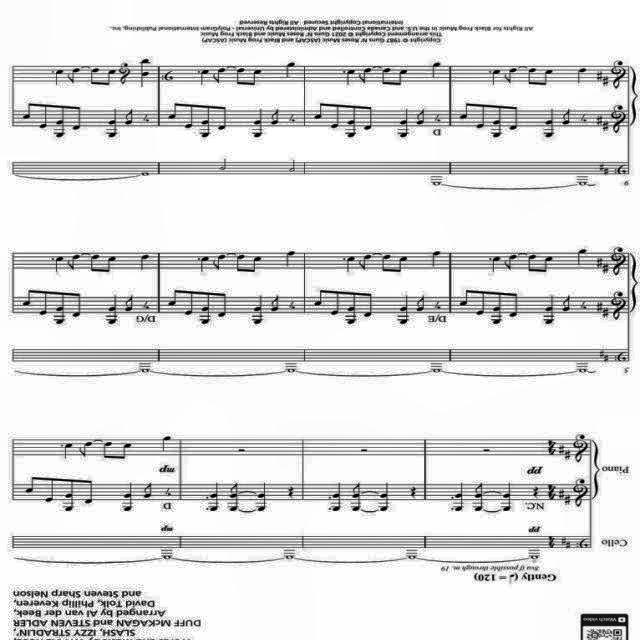Bass-clef: (160, 69, 176, 83), (612, 350, 628, 362), (613, 164, 629, 176), (575, 538, 589, 550)
Diez: (564, 494, 572, 506), (558, 444, 566, 456), (596, 302, 604, 314), (596, 114, 604, 126), (602, 76, 610, 88), (596, 70, 604, 82), (564, 450, 572, 460), (602, 308, 610, 318), (602, 264, 610, 274), (598, 162, 606, 172), (602, 121, 610, 131), (602, 353, 610, 362), (596, 256, 602, 268), (558, 488, 564, 499), (564, 542, 572, 550), (603, 167, 609, 176), (561, 538, 567, 546), (599, 350, 605, 358)
Eighth-note: (57, 476, 75, 512), (339, 290, 357, 326), (195, 104, 212, 140), (486, 289, 502, 327), (50, 290, 66, 326), (196, 290, 212, 326), (488, 103, 504, 139), (50, 104, 66, 140), (326, 102, 342, 130), (344, 104, 356, 140), (470, 290, 486, 316), (358, 292, 374, 318), (324, 289, 340, 315), (22, 289, 44, 307), (473, 480, 485, 512), (78, 480, 94, 504), (504, 292, 518, 318), (66, 291, 80, 317), (215, 105, 229, 131), (36, 102, 49, 130), (166, 102, 186, 120), (21, 102, 39, 122), (244, 68, 264, 86), (228, 482, 240, 511), (41, 477, 54, 503), (36, 289, 49, 315), (182, 102, 194, 130), (459, 289, 477, 307), (167, 289, 185, 307), (99, 255, 117, 273), (535, 68, 553, 86), (313, 102, 331, 120), (391, 69, 409, 87), (214, 292, 226, 318), (182, 290, 194, 316), (506, 105, 518, 131), (361, 105, 373, 131), (70, 105, 82, 131), (391, 255, 409, 272), (352, 482, 362, 512), (22, 476, 38, 494), (114, 443, 132, 459), (246, 255, 262, 273), (502, 253, 518, 271), (356, 254, 372, 272), (212, 66, 228, 84), (358, 66, 374, 84), (475, 102, 485, 130), (89, 66, 103, 86), (537, 255, 553, 272), (314, 290, 330, 306), (66, 254, 82, 270), (458, 103, 474, 119), (66, 68, 82, 84), (100, 70, 116, 86), (528, 254, 540, 274), (90, 254, 102, 274), (124, 294, 136, 314), (380, 66, 392, 86), (234, 66, 246, 85), (268, 106, 280, 125), (78, 441, 92, 457), (504, 68, 518, 84), (212, 253, 225, 270), (382, 254, 393, 274), (142, 482, 154, 500), (415, 295, 427, 313), (528, 68, 540, 86), (414, 108, 426, 126), (236, 254, 247, 272), (103, 441, 113, 459), (271, 295, 281, 313), (561, 108, 571, 126), (562, 295, 572, 313), (125, 109, 135, 127)
Eighth-rest: (578, 298, 590, 310), (579, 112, 589, 124), (433, 112, 442, 124), (287, 300, 297, 310), (142, 113, 152, 123), (164, 487, 172, 497), (434, 301, 442, 311), (142, 301, 150, 311), (288, 114, 296, 122)
Full-note: (432, 368, 444, 374), (286, 368, 298, 374), (578, 368, 588, 374), (140, 368, 150, 374), (528, 556, 540, 560), (284, 556, 296, 560), (576, 182, 588, 186), (407, 556, 418, 560), (431, 182, 442, 186), (162, 556, 172, 560), (142, 172, 150, 176)
Full-rest: (480, 448, 492, 452), (358, 448, 370, 452), (237, 448, 247, 452)
Half-note: (216, 157, 228, 171), (287, 159, 297, 173)
Quarter-note: (542, 294, 556, 326), (252, 294, 264, 324), (544, 108, 556, 138), (252, 108, 264, 138), (139, 58, 151, 88), (502, 481, 512, 512), (454, 482, 464, 512), (379, 482, 389, 512), (331, 482, 341, 512), (257, 481, 267, 511), (209, 481, 219, 511), (123, 481, 133, 511), (399, 109, 409, 139), (107, 108, 117, 138), (399, 294, 408, 326), (108, 295, 116, 325), (284, 252, 296, 268), (54, 70, 66, 86), (577, 248, 587, 266), (345, 68, 355, 86), (200, 255, 210, 272), (432, 250, 441, 268), (161, 436, 171, 452), (346, 256, 356, 272), (54, 256, 64, 272), (140, 254, 150, 270), (577, 68, 587, 84), (491, 70, 501, 86), (285, 62, 295, 78), (492, 256, 501, 272), (432, 62, 441, 78), (200, 68, 208, 86), (64, 444, 72, 461), (508, 574, 516, 586)
Quarter-rest: (285, 483, 295, 499), (410, 486, 418, 499), (532, 486, 540, 498)
Treble-clef: (572, 433, 588, 463), (610, 60, 626, 88), (611, 102, 625, 134), (611, 246, 627, 274), (611, 290, 625, 322), (573, 478, 587, 509), (118, 62, 130, 86)
